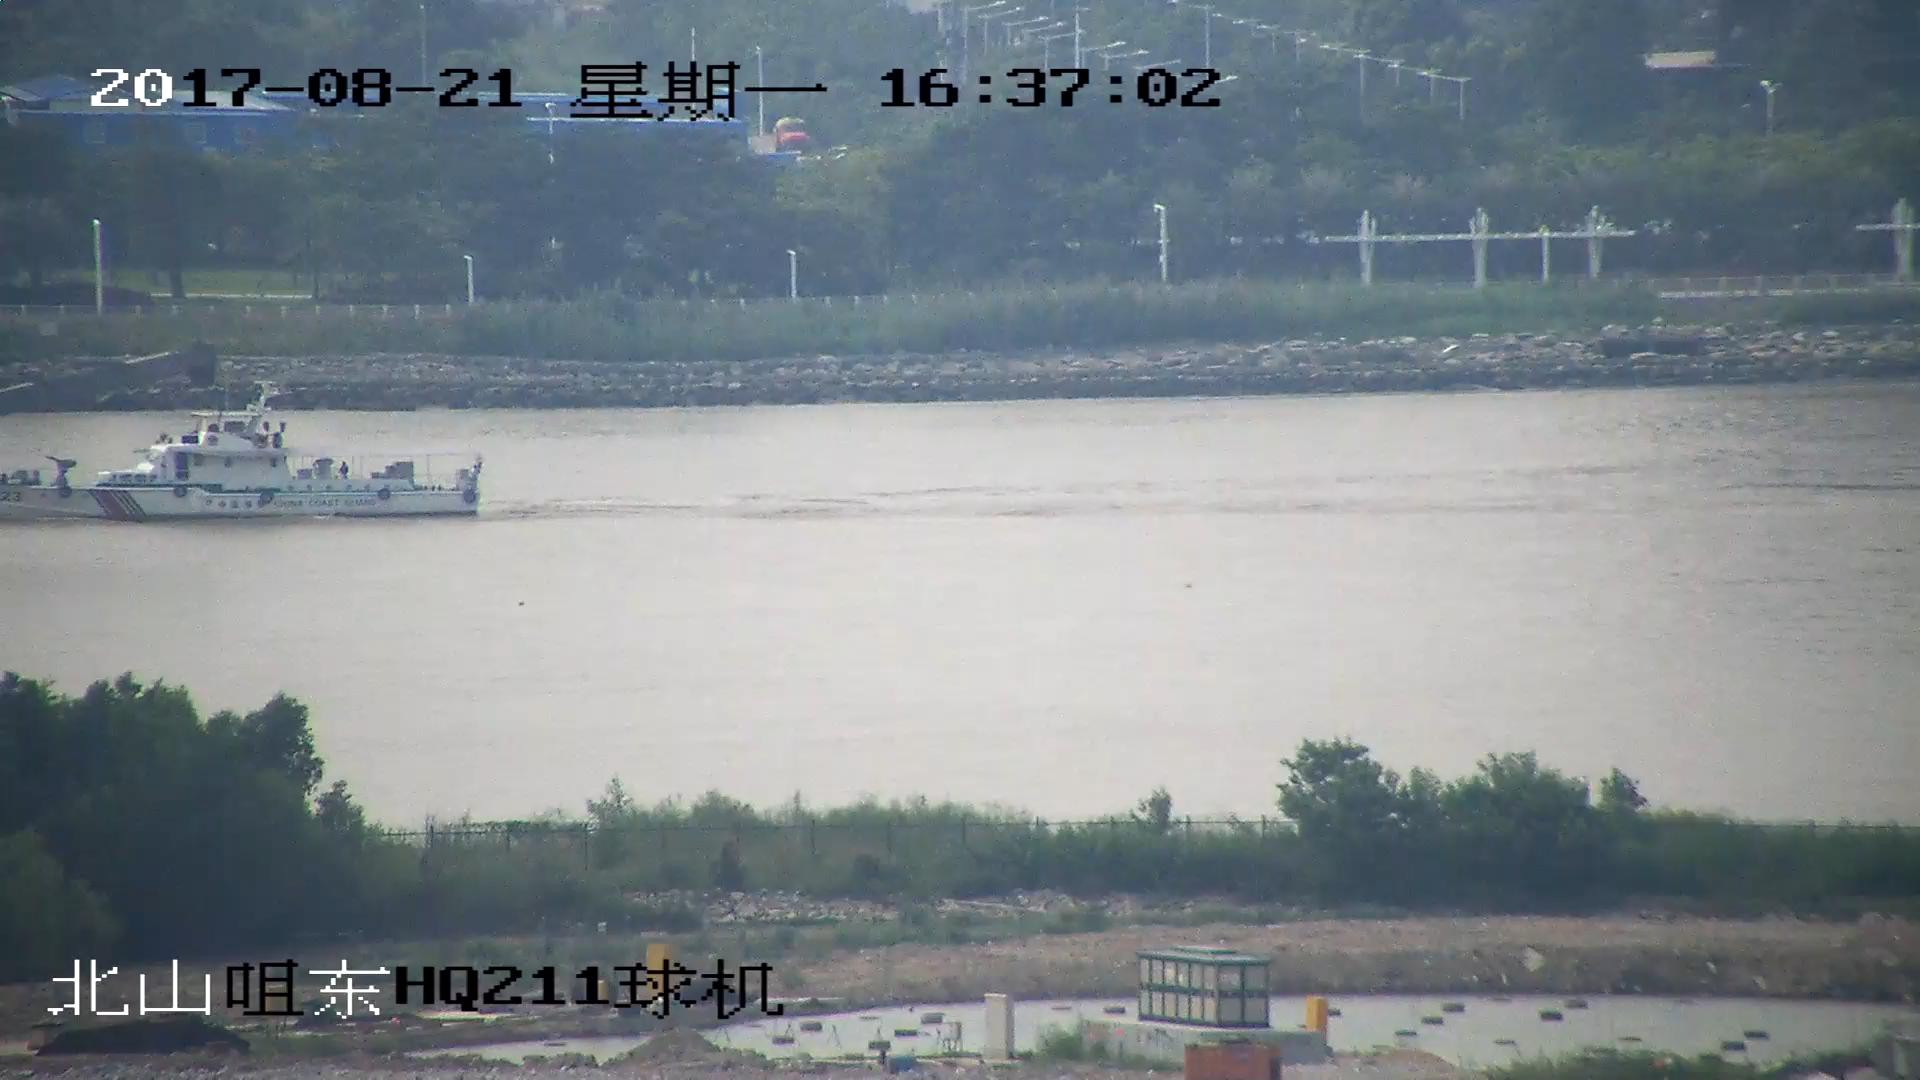passenger ship: (1, 377, 482, 519)
